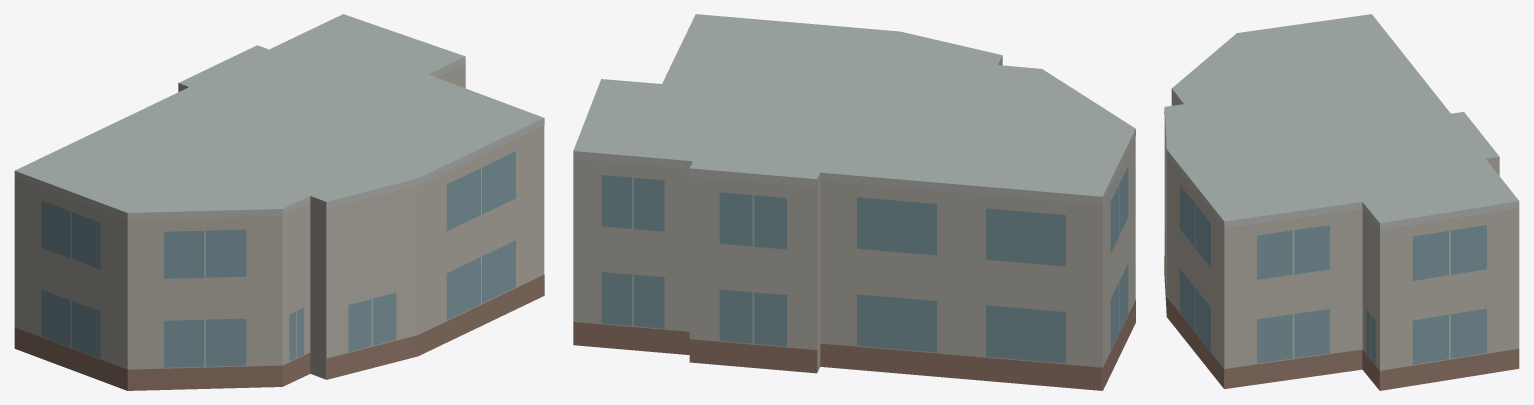
The model's file is survey-upis-32700214.glb.
3 renders of one model, left to right at view 1: azimuth 30°, elevation 25°; view 2: azimuth 150°, elevation 25°; view 3: azimuth 270°, elevation 25°, orthographic. The views are drawn at different scales.
Visible parts, largest first — view 1: survey-upis-32700214.tmp; view 2: survey-upis-32700214.tmp; view 3: survey-upis-32700214.tmp.
Boxes of the visible parts, <box> form: survey-upis-32700214.tmp: <box>14,14,544,390</box>; survey-upis-32700214.tmp: <box>573,14,1135,390</box>; survey-upis-32700214.tmp: <box>1164,14,1519,390</box>.
Bounding box in the file's own units: 16.35 × 6.1 × 11.72.
